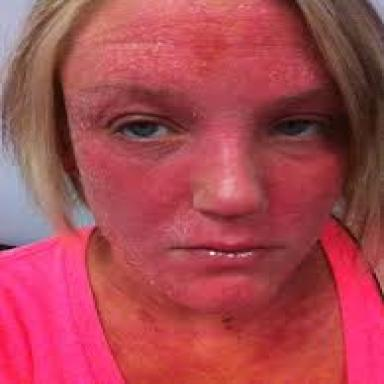burn: (57, 0, 348, 381)
